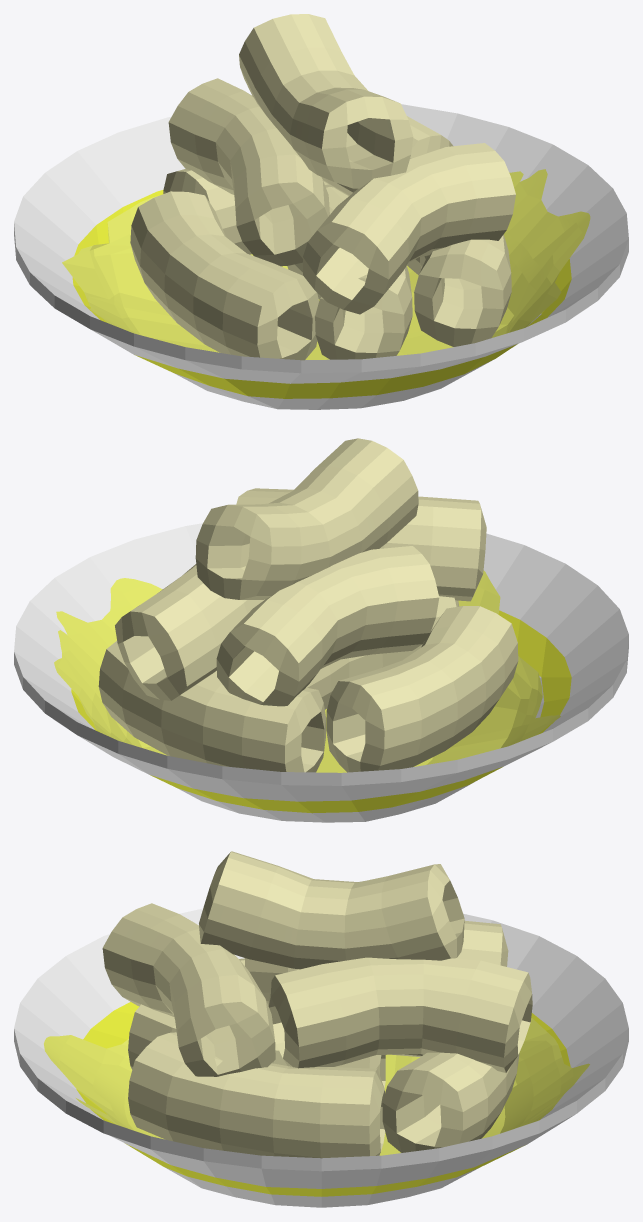
The model's file is split_egged_mac.fbx.
3 renders of one model, top to bottom at view 1: azimuth 30°, elevation 25°; view 2: azimuth 150°, elevation 25°; view 3: azimuth 270°, elevation 25°, orthographic.
Parts seen in each view (by area): view 1: Noodles, Cup, Cheese; view 2: Noodles, Cup, Cheese; view 3: Noodles, Cup, Cheese.
Part boxes in pixels (box(x1,y1,x2,y2)): Noodles: box(130, 14, 515, 360); Cup: box(14, 104, 628, 409); Cheese: box(62, 169, 590, 359); Noodles: box(98, 438, 518, 772); Cup: box(14, 523, 628, 822); Cheese: box(54, 570, 560, 772); Noodles: box(102, 851, 532, 1158); Cup: box(14, 908, 628, 1207); Cheese: box(44, 1017, 589, 1155).
Size of the model in its own units: 39.2 by 19.68 by 39.2.
